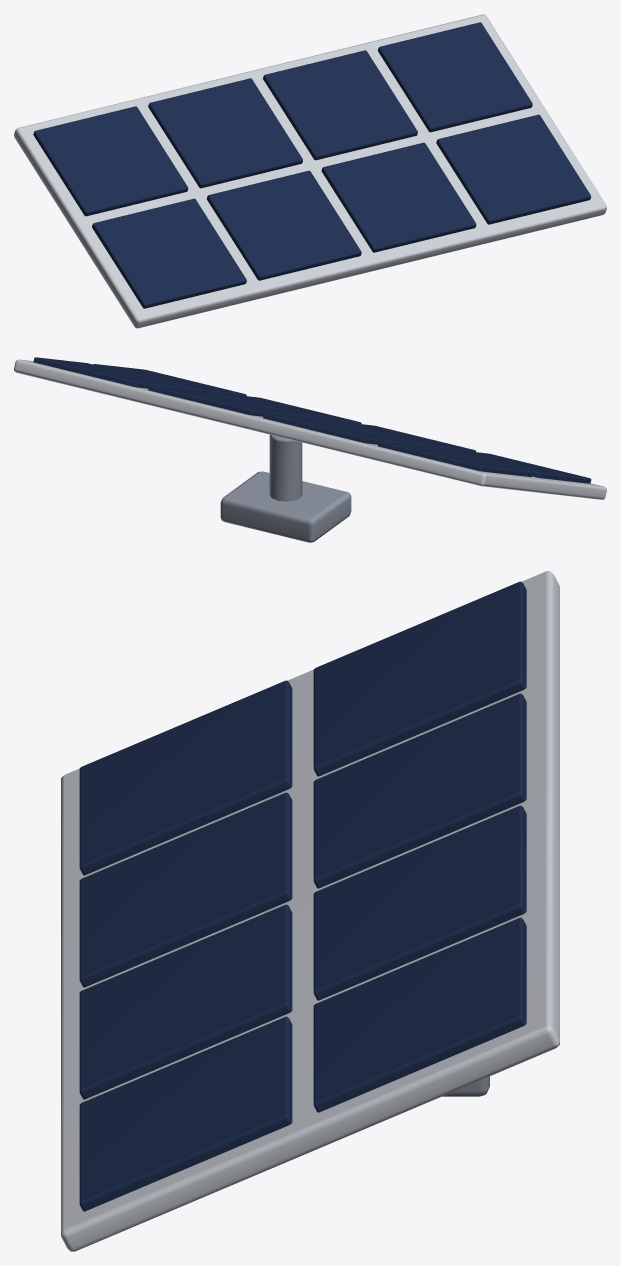
File: Part_SolarPanel.fbx
The picture shows the model from 3 angles, top to bottom: view 1: azimuth 30°, elevation 25°; view 2: azimuth 150°, elevation 25°; view 3: azimuth 270°, elevation 25°; orthographic projection. The views are drawn at different scales.
Visible parts, largest first — view 1: Part_SolarPanel.Panel; view 2: Part_SolarPanel.Panel, Part_SolarPanel.Mount; view 3: Part_SolarPanel.Panel.
Part boxes in pixels (left/top/right/bottom): Part_SolarPanel.Panel: left=14, top=14, right=606, bottom=328; Part_SolarPanel.Panel: left=14, top=357, right=606, bottom=499; Part_SolarPanel.Mount: left=220, top=434, right=351, bottom=542; Part_SolarPanel.Panel: left=61, top=571, right=559, bottom=1251.
Size of the model in its own units: 2 by 0.5204 by 0.9177.
Materials: 1 (1 with a texture image).
